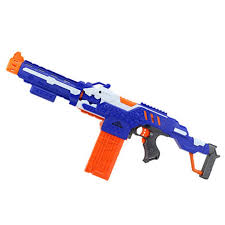Arma Falsa: (4, 50, 225, 180)
